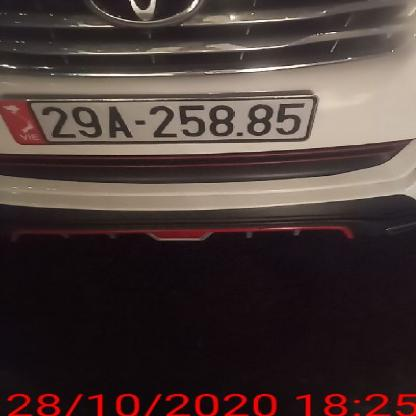biensoxe: (1, 98, 318, 147)
